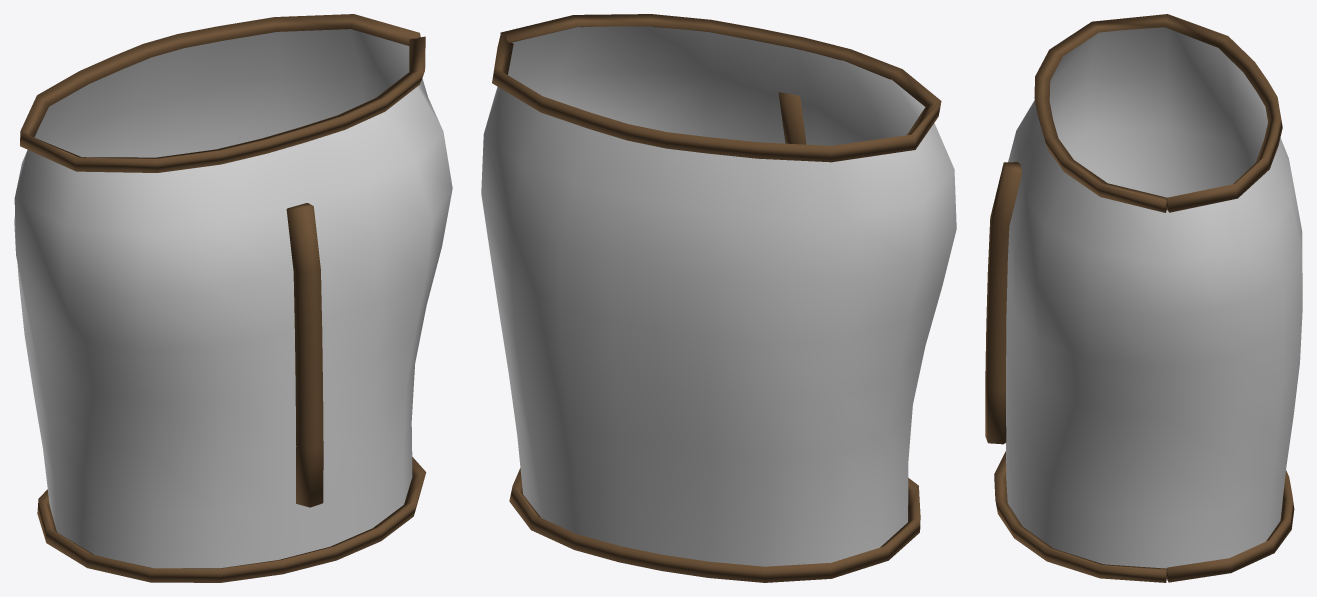
File: timber_armor_chest.glb
The picture shows the model from 3 angles, left to right: view 1: azimuth 30°, elevation 25°; view 2: azimuth 150°, elevation 25°; view 3: azimuth 270°, elevation 25°; orthographic projection. The views are drawn at different scales.
Parts seen in each view (by area): view 1: timber_armor_chest; view 2: timber_armor_chest; view 3: timber_armor_chest.
Boxes of the visible parts, x1,y1,x2,y2 form: timber_armor_chest: (14,14,452,582); timber_armor_chest: (481,14,956,582); timber_armor_chest: (985,14,1302,582).
Bounding box in the file's own units: 0.3976 × 0.3857 × 0.2799.
